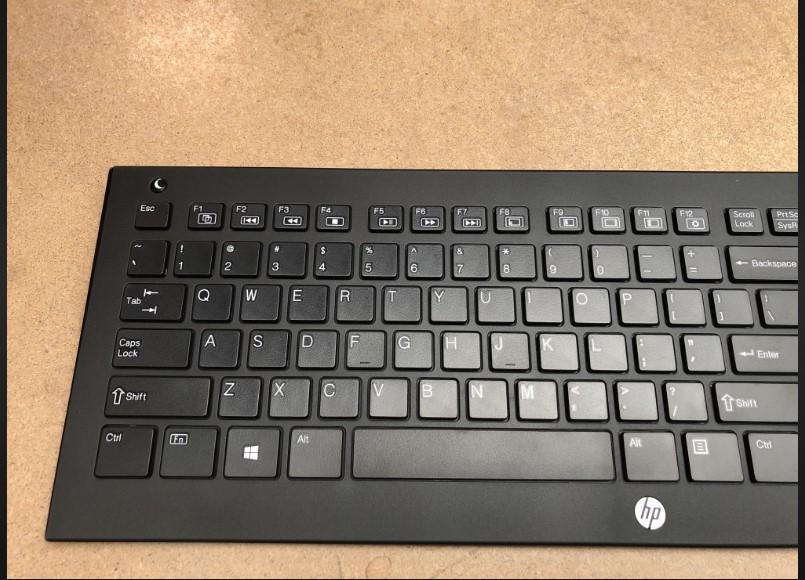Keyboard: (41, 166, 804, 552)
